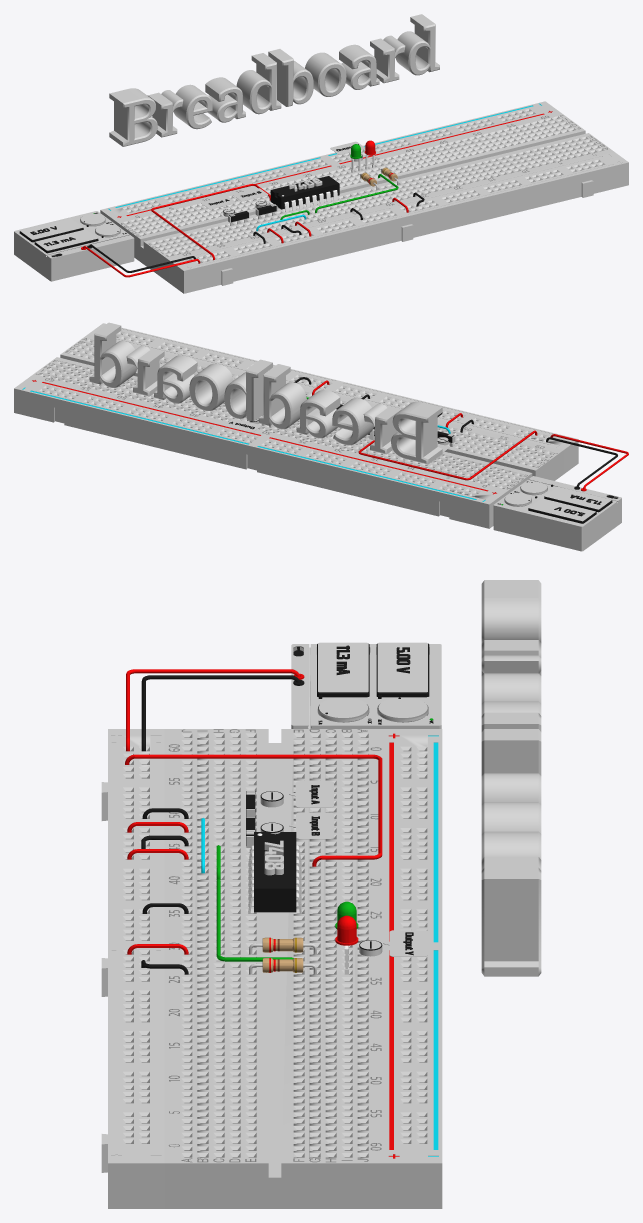
The model's file is breadboard-reference.glb.
3 renders of one model, top to bottom at view 1: azimuth 30°, elevation 25°; view 2: azimuth 150°, elevation 25°; view 3: azimuth 270°, elevation 25°, orthographic. The views are drawn at different scales.
Parts seen in each view (by area): view 1: Main_Board, Mirror4_instance, Breadboard_2, Mirror4, Face, Cylinder_1, IC_2, Red_Wire_2_3; view 2: Mirror4, Breadboard_2, Main_Board, Mirror4_instance, Face, Cylinder_1, Red_Wire_2_3, Red_Wire_2, Red_Wire_1_2; view 3: Main_Board, Mirror4_instance, Mirror4, Breadboard_2, Cylinder_1, Face, IC_2, Red_Wire_2_3, Red_Wire_2, Red_Wire_1_2, Extrude_7, Extrude_9 (+1 smaller).
Part boxes in pixels (bbox=[...]): Main_Board: bbox=[114, 111, 614, 282]; Mirror4_instance: bbox=[169, 152, 628, 293]; Breadboard_2: bbox=[109, 14, 439, 146]; Mirror4: bbox=[100, 101, 558, 223]; Face: bbox=[14, 211, 134, 281]; Cylinder_1: bbox=[19, 213, 120, 253]; IC_2: bbox=[270, 176, 339, 212]; Red_Wire_2_3: bbox=[151, 183, 270, 260]; Mirror4: bbox=[14, 377, 504, 528]; Breadboard_2: bbox=[89, 322, 442, 464]; Main_Board: bbox=[29, 334, 563, 496]; Mirror4_instance: bbox=[88, 323, 578, 473]; Face: bbox=[493, 476, 621, 551]; Cylinder_1: bbox=[504, 481, 612, 523]; Red_Wire_2_3: bbox=[358, 430, 537, 480]; Red_Wire_2: bbox=[550, 434, 628, 489]; Red_Wire_1_2: bbox=[546, 437, 617, 487]; Main_Board: bbox=[164, 729, 385, 1208]; Mirror4_instance: bbox=[101, 729, 164, 1208]; Mirror4: bbox=[385, 729, 442, 1208]; Breadboard_2: bbox=[481, 580, 541, 976]; Cylinder_1: bbox=[317, 642, 429, 722]; Face: bbox=[291, 644, 441, 728]; IC_2: bbox=[248, 832, 301, 913]; Red_Wire_2_3: bbox=[125, 754, 382, 866]; Red_Wire_2: bbox=[126, 669, 300, 751]; Red_Wire_1_2: bbox=[141, 675, 300, 751]; Extrude_7: bbox=[289, 812, 334, 839]; Extrude_9: bbox=[289, 781, 333, 807].
Size of the model in its own units: 4.54 by 0.9518 by 1.62.
